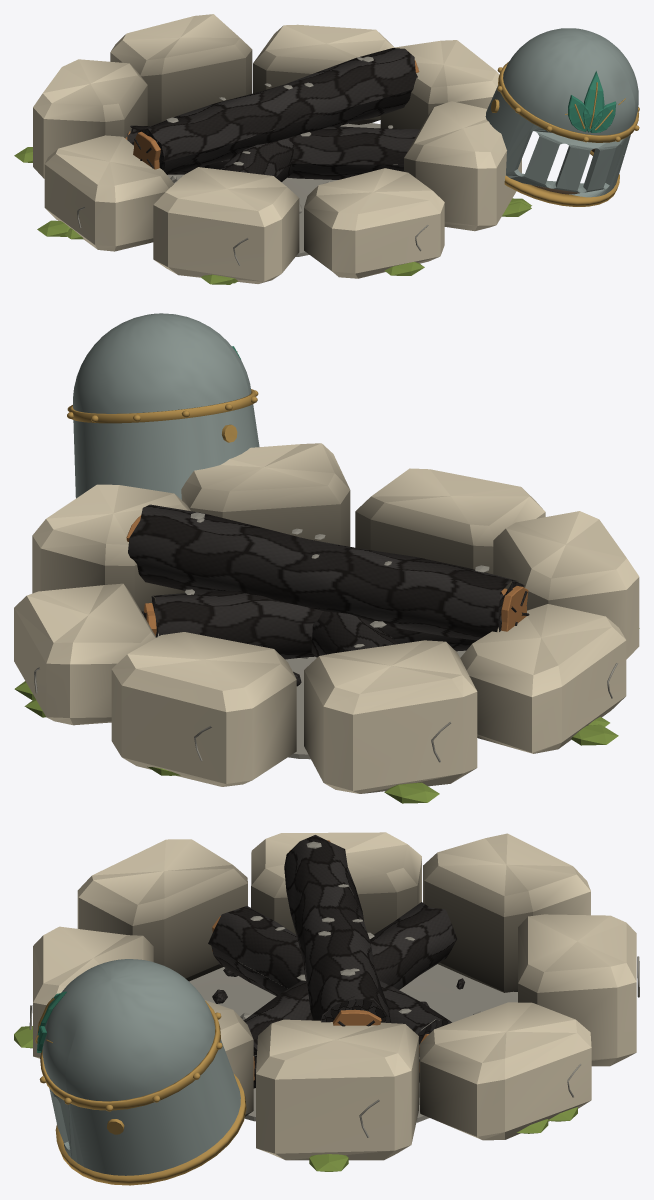
Rendered from campfire-remains.glb.
3 views of the same model, one above another, from view 1: azimuth 30°, elevation 25°; view 2: azimuth 150°, elevation 25°; view 3: azimuth 270°, elevation 25° (orthographic). The views are drawn at different scales.
Parts seen in each view (by area): view 1: campfire-limestone, campfire-charcoal (×3), campfire-steel, campfire-old-bronze, campfire-moss, campfire-jade-leaves, campfire-cold-ash, campfire-broken-wood-core; view 2: campfire-limestone, campfire-charcoal (×3), campfire-steel, campfire-old-bronze, campfire-moss, campfire-cold-ash, campfire-broken-wood-core; view 3: campfire-limestone, campfire-steel, campfire-charcoal (×3), campfire-cold-ash, campfire-old-bronze, campfire-moss, campfire-broken-wood-core.
Boxes of the visible parts, x1,y1,x2,y2 form: campfire-limestone: (33,14,521,283); campfire-charcoal (×3): (127,48,419,181); campfire-steel: (485,28,638,197); campfire-old-bronze: (491,61,639,206); campfire-moss: (14,147,531,284); campfire-jade-leaves: (568,71,616,132); campfire-cold-ash: (167,123,397,256); campfire-broken-wood-core: (133,60,419,169); campfire-limestone: (14,443,639,793); campfire-charcoal (×3): (128,504,529,659); campfire-steel: (73,313,259,499); campfire-old-bronze: (67,351,258,442); campfire-moss: (14,628,639,803); campfire-cold-ash: (157,633,465,759); campfire-broken-wood-core: (126,515,528,631); campfire-limestone: (33,832,636,1160); campfire-steel: (42,959,240,1175); campfire-charcoal (×3): (208,835,456,1088); campfire-cold-ash: (189,964,517,1122); campfire-old-bronze: (35,997,246,1185); campfire-moss: (14,1026,577,1171); campfire-broken-wood-core: (289,840,381,1025).
Bounding box in the file's own units: 2.65 × 0.8108 × 2.28.
9 materials, 1 textured.
